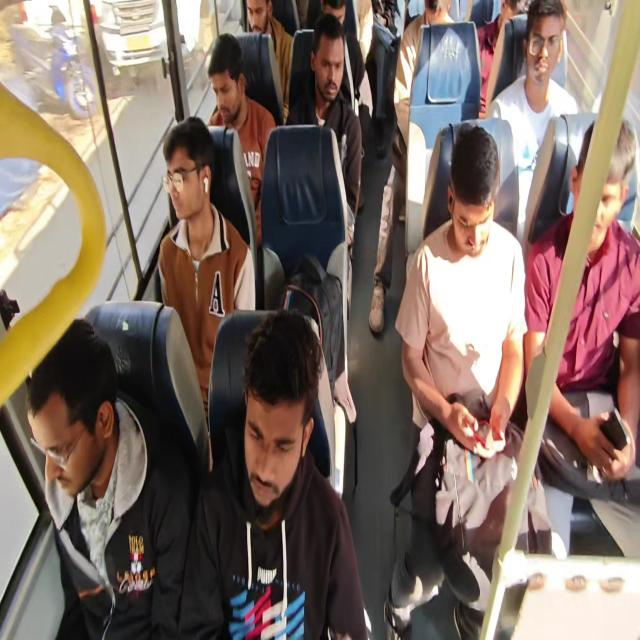person: (0, 351, 140, 580), (239, 286, 339, 534), (127, 138, 242, 292), (315, 24, 403, 170), (568, 112, 640, 287), (192, 46, 280, 140), (456, 114, 518, 229), (530, 7, 581, 94), (422, 0, 476, 78), (357, 0, 391, 92), (498, 0, 530, 59), (239, 0, 287, 34), (298, 0, 339, 27)
